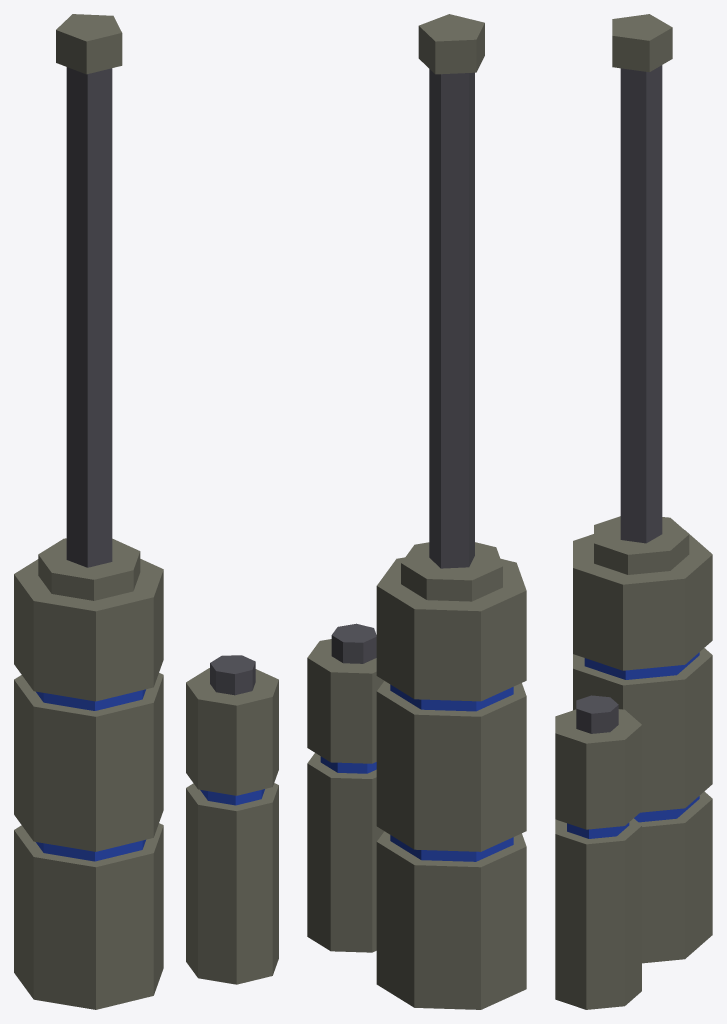
File: LPSciFiCharacter_MastA.fbx
3 views of the same model, side by side, from view 1: azimuth 30°, elevation 25°; view 2: azimuth 150°, elevation 25°; view 3: azimuth 270°, elevation 25° (orthographic). The views are drawn at different scales.
Parts seen in each view (by area): view 1: MastA; view 2: MastA; view 3: MastA.
Part boxes in pixels (box(x1,y1,x2,y2)): MastA: box(14, 14, 278, 1009); MastA: box(307, 14, 526, 1009); MastA: box(555, 14, 712, 1009).
Bounding box in the file's own units: 101 × 404 × 63.56.
